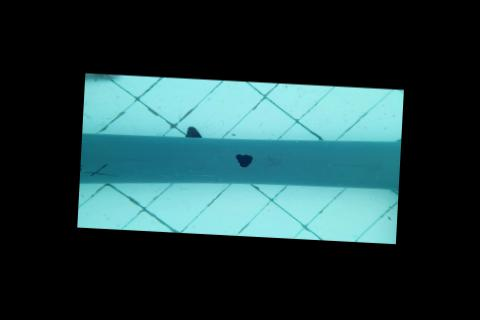kebocoran: (233, 152, 254, 169)
keretakan: (79, 160, 117, 178)
